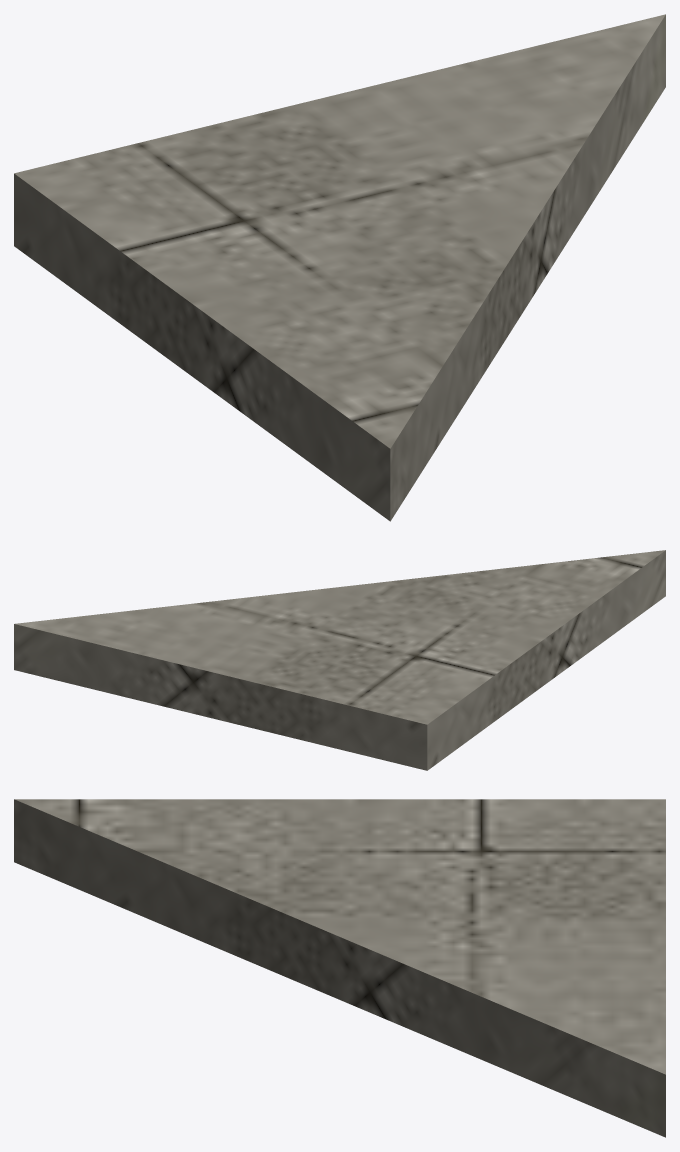
Rendered from road_side_corner.fbx.
The picture shows the model from 3 angles, top to bottom: view 1: azimuth 30°, elevation 25°; view 2: azimuth 150°, elevation 25°; view 3: azimuth 270°, elevation 25°; orthographic projection. The views are drawn at different scales.
Visible parts, largest first — view 1: road_side_corner; view 2: road_side_corner; view 3: road_side_corner.
Part boxes in pixels (x1,y1,x2,y2): road_side_corner: (14,14,665,521); road_side_corner: (14,550,665,770); road_side_corner: (14,799,665,1137).
Size of the model in its own units: 300 by 32 by 300.
Materials: 1 (1 with a texture image).
